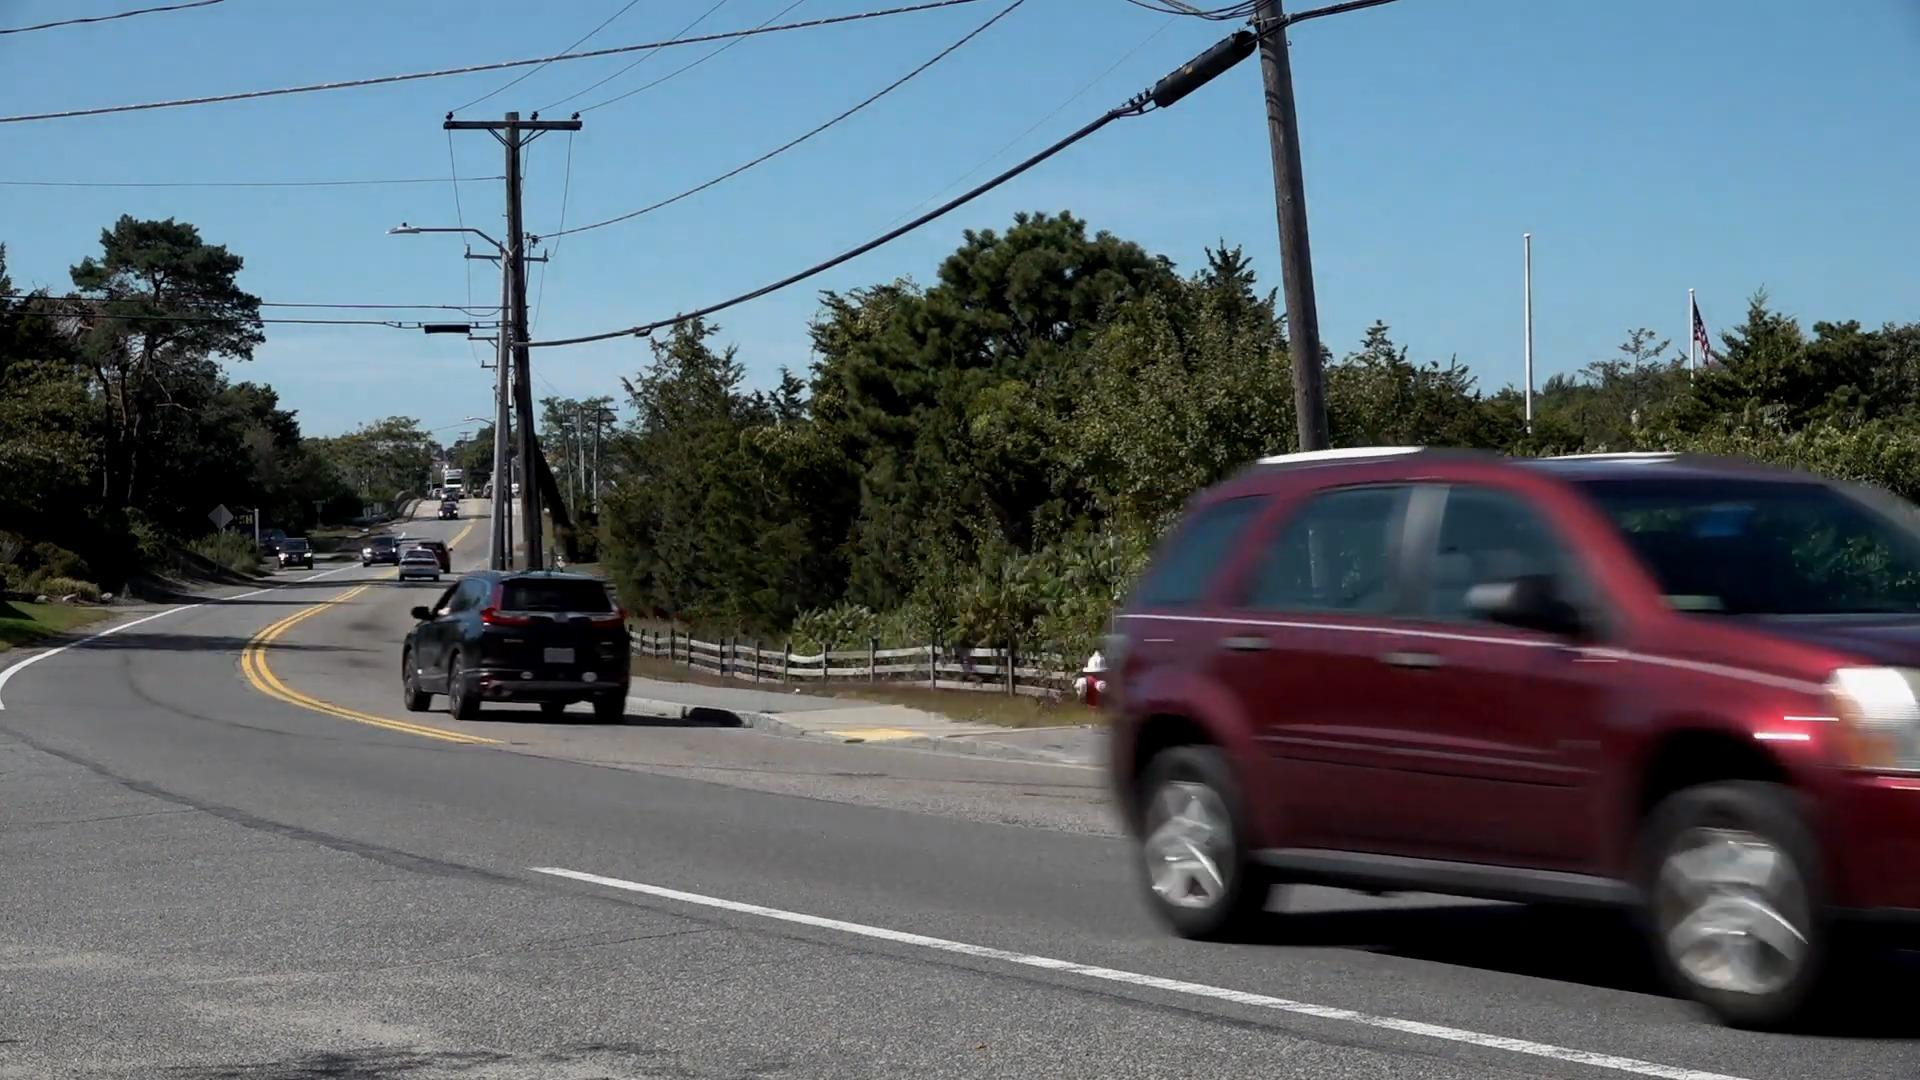suv: (1102, 450, 1920, 1025), (400, 568, 633, 723)
